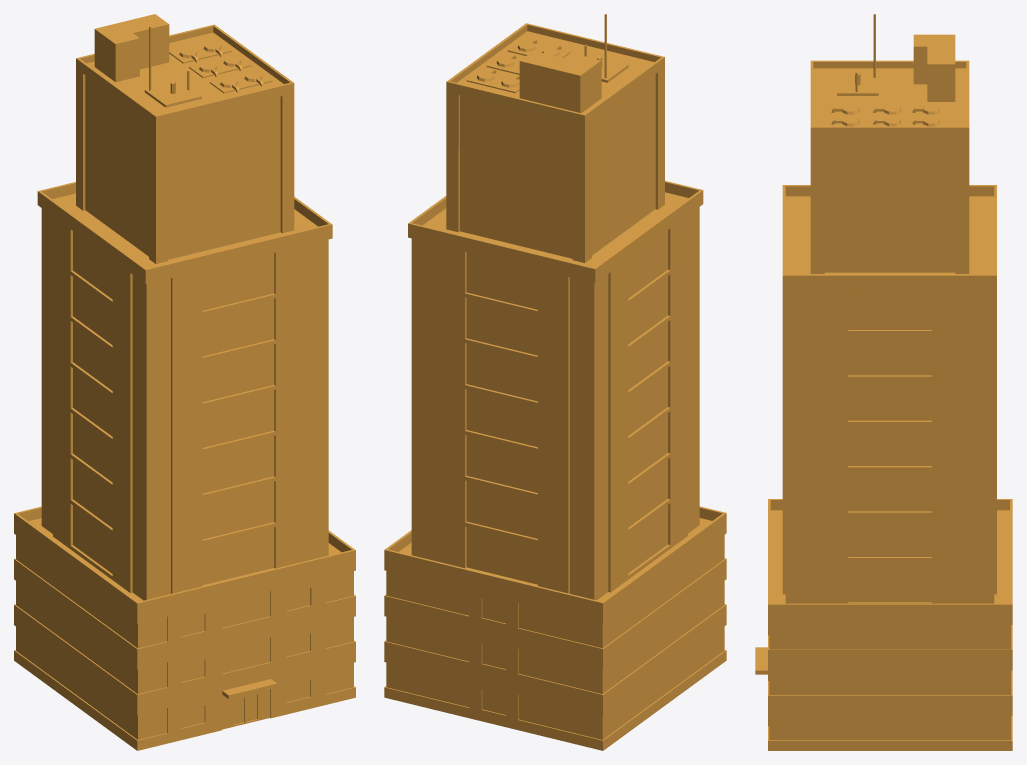
Rendered from building-office-pyramid.fbx.
3 renders of one model, left to right at view 1: azimuth 30°, elevation 25°; view 2: azimuth 150°, elevation 25°; view 3: azimuth 270°, elevation 25°, orthographic.
Visible parts, largest first — view 1: building-office-pyramid; view 2: building-office-pyramid; view 3: building-office-pyramid.
Part boxes in pixels (x1=…): building-office-pyramid: x1=14, y1=14, x2=355, y2=750; building-office-pyramid: x1=384, y1=14, x2=726, y2=750; building-office-pyramid: x1=755, y1=14, x2=1012, y2=750.
Bounding box in the file's own units: 18 × 52.6 × 18.5.
